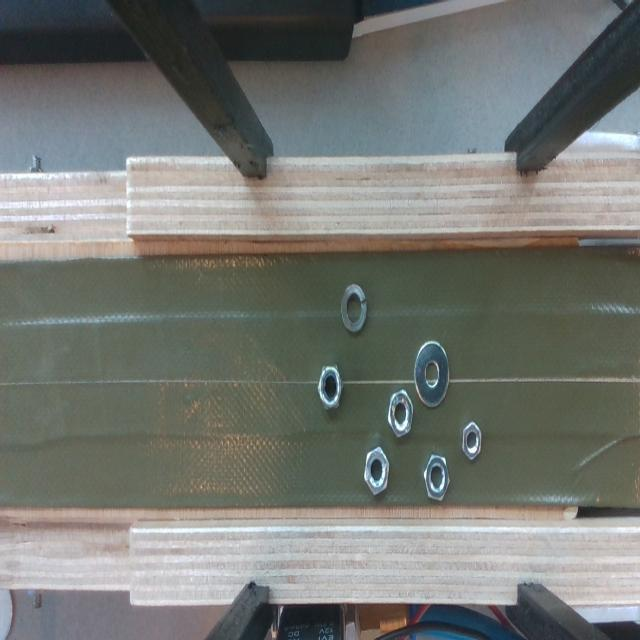Nut: (359, 440, 394, 500), (418, 450, 454, 506), (387, 384, 419, 444), (460, 415, 488, 466), (313, 365, 342, 413)
Washer: (408, 338, 457, 408), (332, 276, 374, 344)
